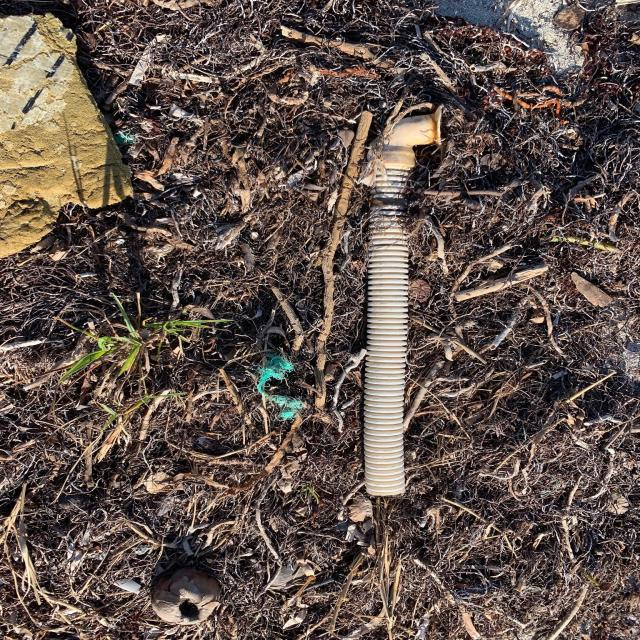litter: (362, 107, 442, 495)
